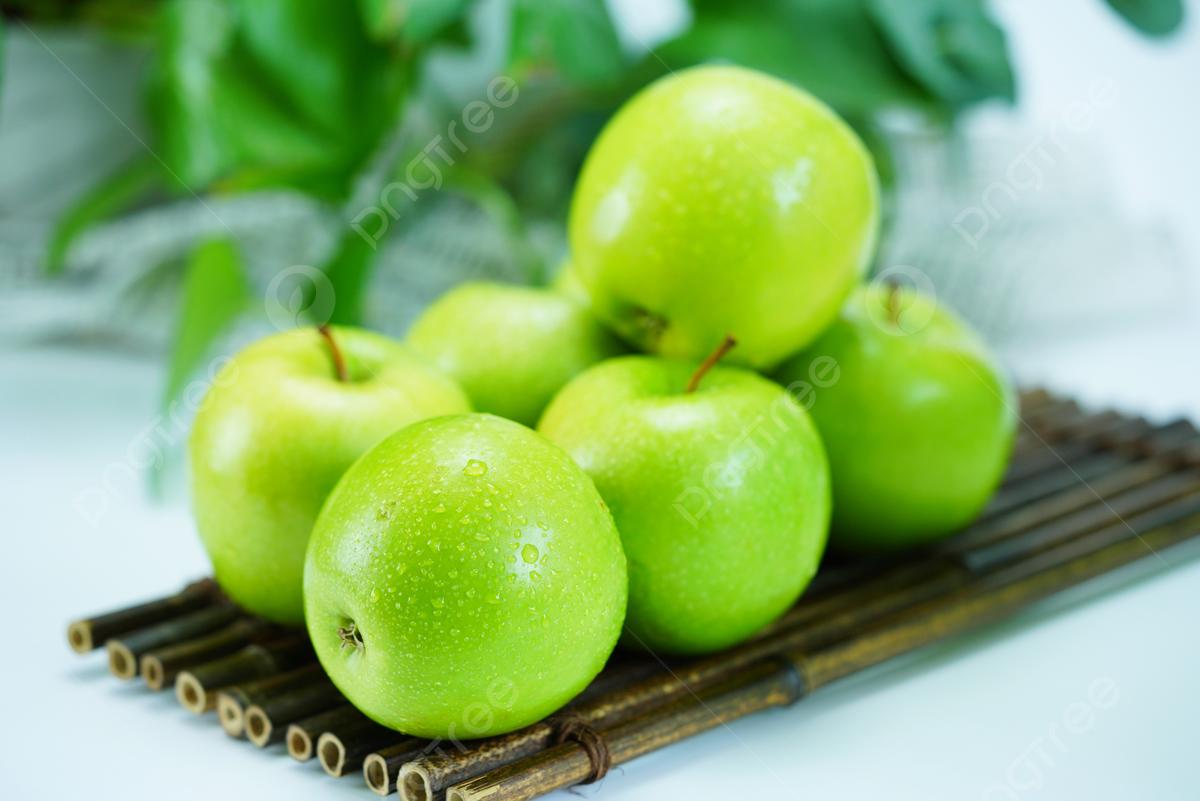apples: (187, 62, 1029, 732)
